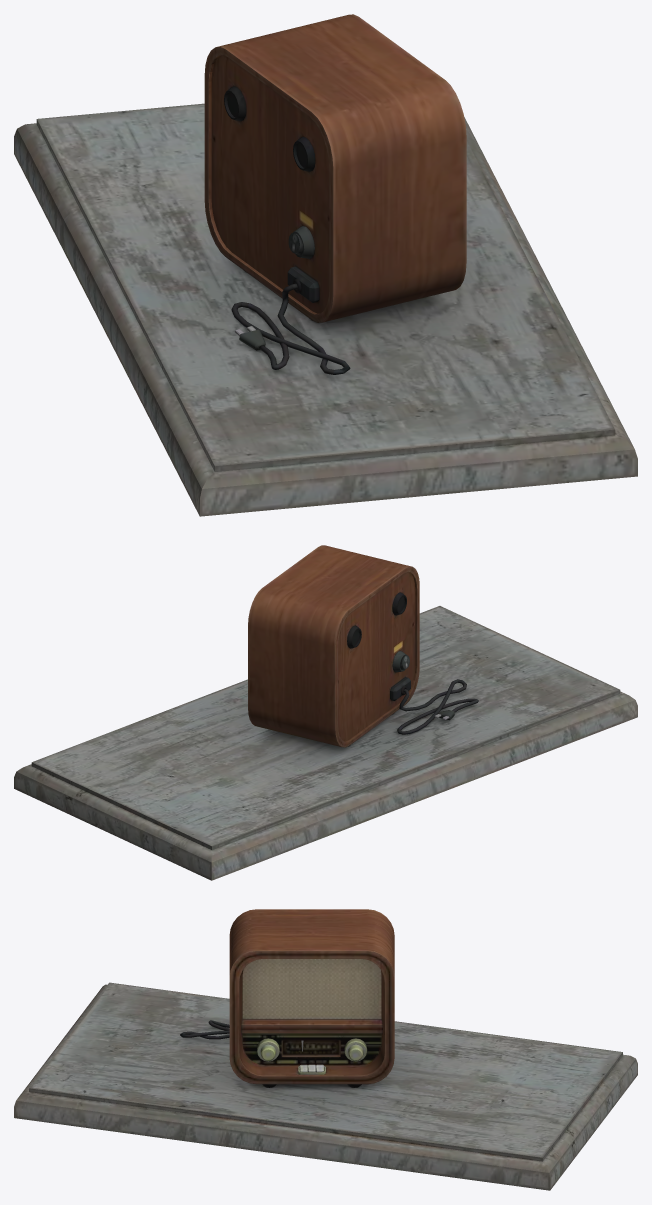
The model's file is vintage_retro_radio.glb.
3 views of the same model, one above another, from view 1: azimuth 30°, elevation 25°; view 2: azimuth 150°, elevation 25°; view 3: azimuth 270°, elevation 25° (orthographic). The views are drawn at different scales.
Parts seen in each view (by area): view 1: Object_2; view 2: Object_2; view 3: Object_2.
Boxes of the visible parts, left/top/right/bottom form: Object_2: left=14, top=14, right=637, bottom=516; Object_2: left=14, top=545, right=637, bottom=880; Object_2: left=14, top=909, right=637, bottom=1190.
Bounding box in the file's own units: 3.03 × 1.25 × 4.24.
Materials: 1 (1 with a texture image).
